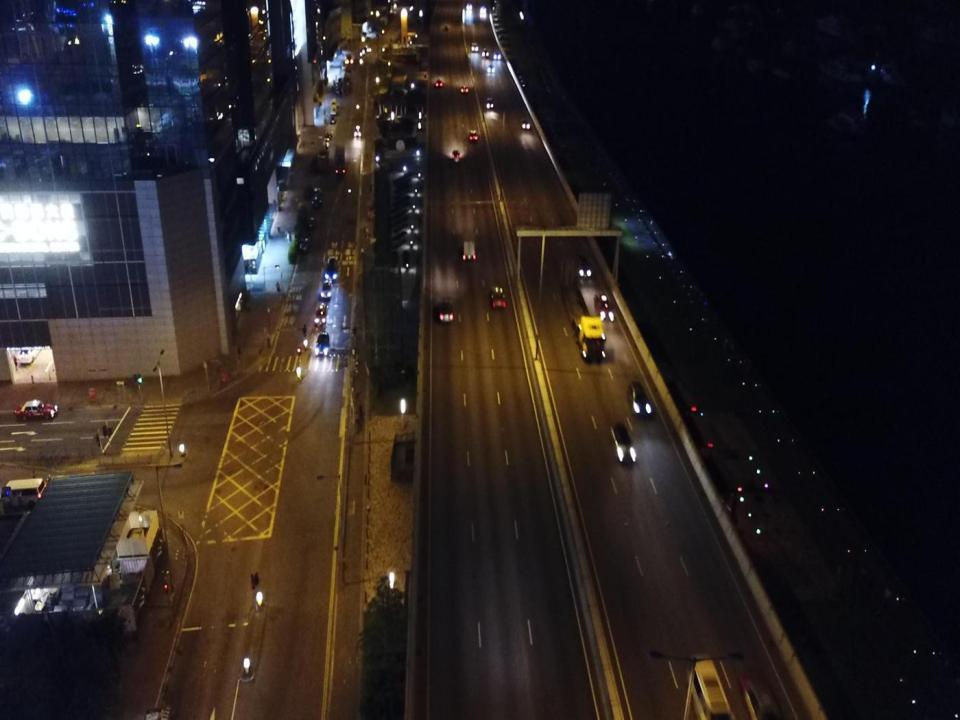car: (739, 670, 781, 719), (611, 422, 635, 462), (15, 400, 58, 419), (628, 380, 650, 416), (18, 340, 44, 364), (594, 292, 614, 320), (315, 331, 330, 357), (324, 256, 338, 280), (439, 300, 454, 322), (491, 285, 505, 308), (576, 256, 590, 278), (316, 302, 327, 326), (300, 233, 312, 252), (321, 280, 332, 298), (312, 196, 322, 209), (306, 216, 315, 229), (469, 130, 478, 142), (354, 126, 361, 136), (471, 42, 478, 52), (486, 98, 493, 108), (460, 85, 468, 92), (522, 120, 529, 128), (442, 24, 449, 31), (482, 49, 489, 56), (493, 52, 500, 59), (487, 65, 494, 72), (436, 79, 442, 87), (481, 4, 486, 12), (330, 115, 334, 123), (467, 4, 472, 9)
truck: (562, 286, 605, 362), (334, 144, 346, 174), (463, 231, 475, 260), (330, 98, 336, 114)
van: (688, 655, 734, 719), (0, 478, 46, 512), (451, 150, 461, 162)
